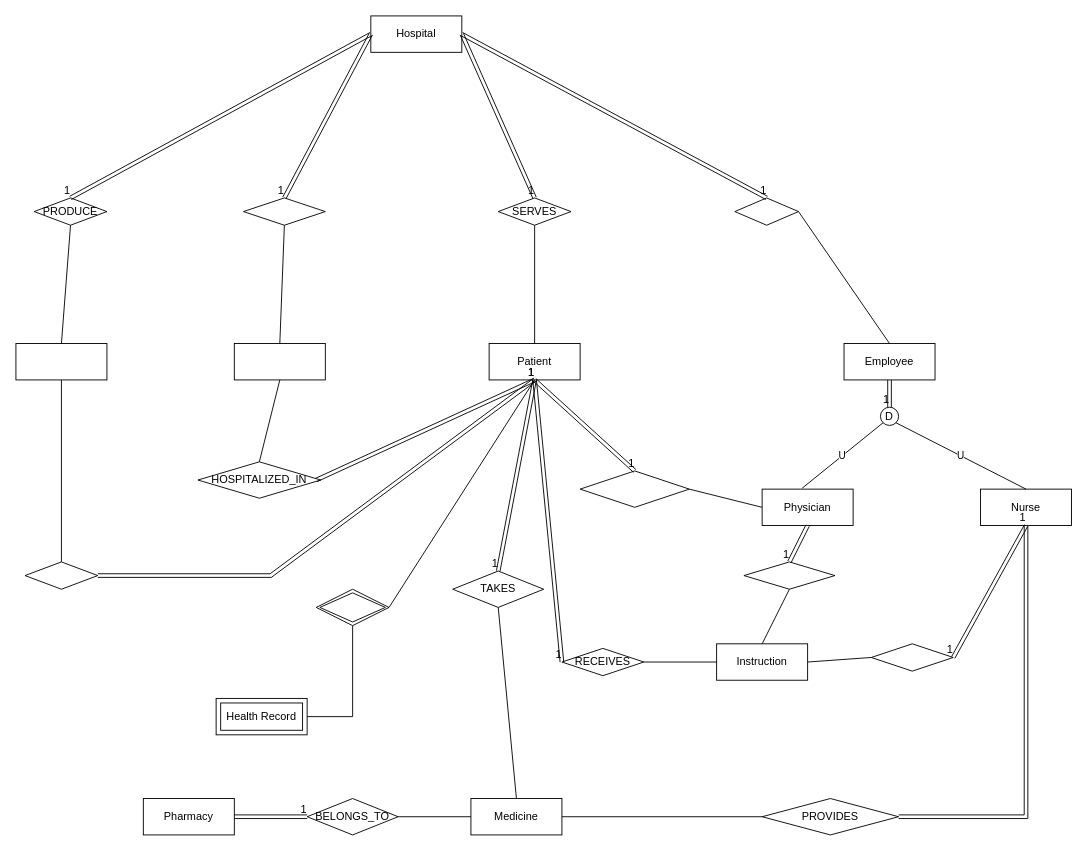
This 1087x851 diagram has some shape labels left out. Each missing label, with the box of its shape:
CONTAINS: (243, 197, 325, 225)
EMPLOYS: (734, 197, 799, 225)
EXECUTE: (870, 643, 953, 671)
GIVES: (743, 561, 835, 589)
HAS: (315, 588, 389, 626)
Invoice: (15, 343, 107, 380)
MONITORED_BY: (579, 470, 689, 507)
PAYS: (24, 561, 98, 589)
Room: (233, 343, 325, 380)
